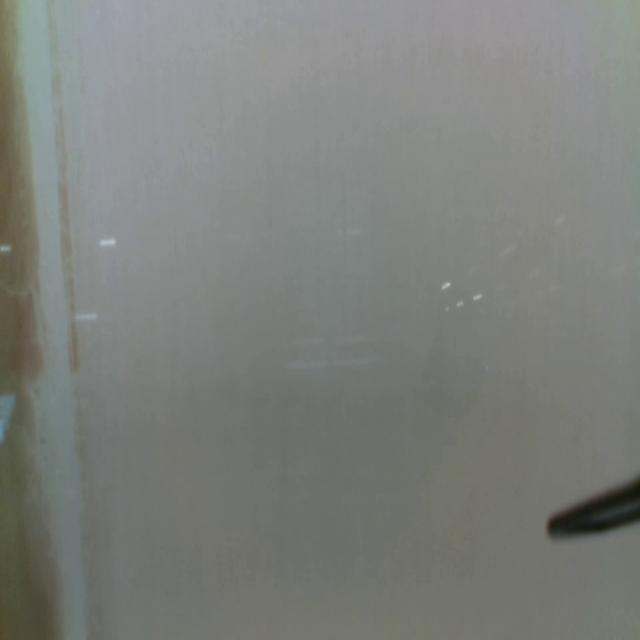color bleeding: (0, 2, 87, 640)
